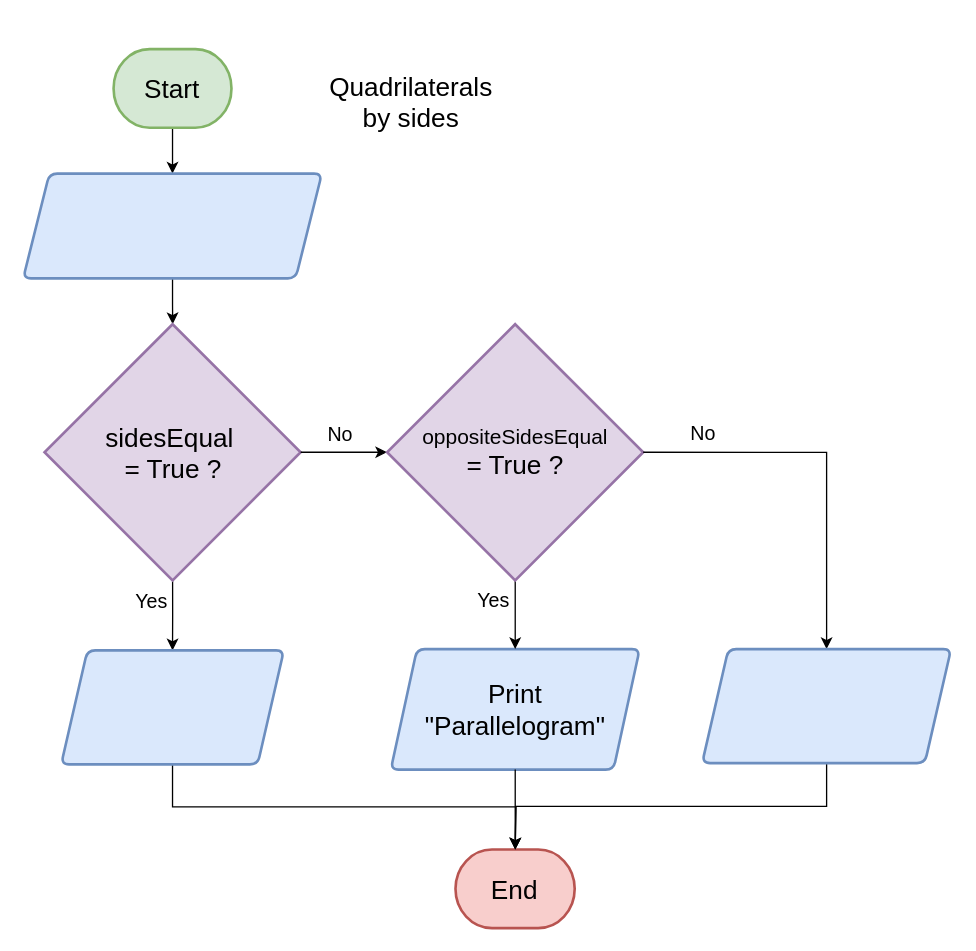
Image size: 976x951. Some labels were removed from this diagram. Each missing label, with the centre of its shape:
Input sidesEqual, oppositeS idesEqual: point (172, 225)
Print "Other Quadrilateral": point (826, 705)
Print "Rhombus": point (172, 706)
